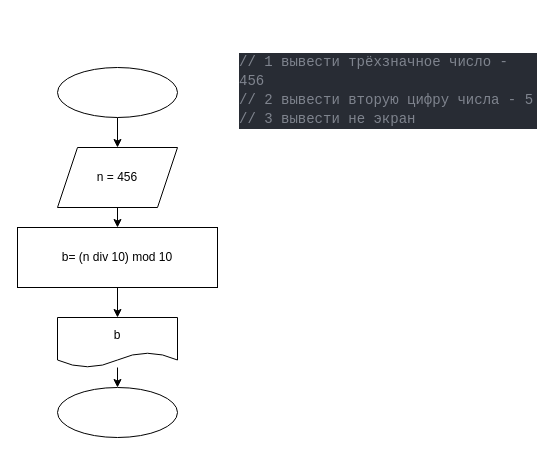
Image size: 555x455. Some labels were removed from this diagram. The centre of each missing label's shape, as x and y in pixels:
"end" goes at (117,412).
"начало" goes at (117,92).
